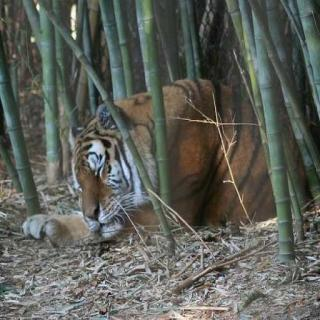Tiger: (23, 80, 314, 254)
